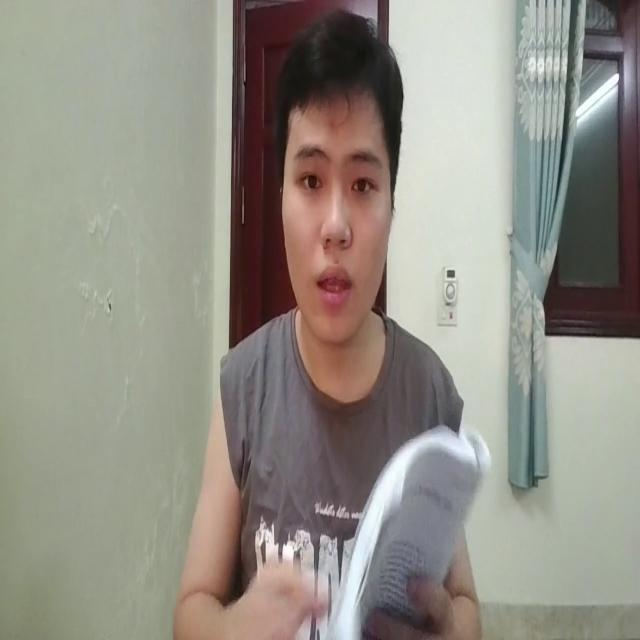book: (342, 413, 492, 640)
student: (181, 6, 480, 640)
